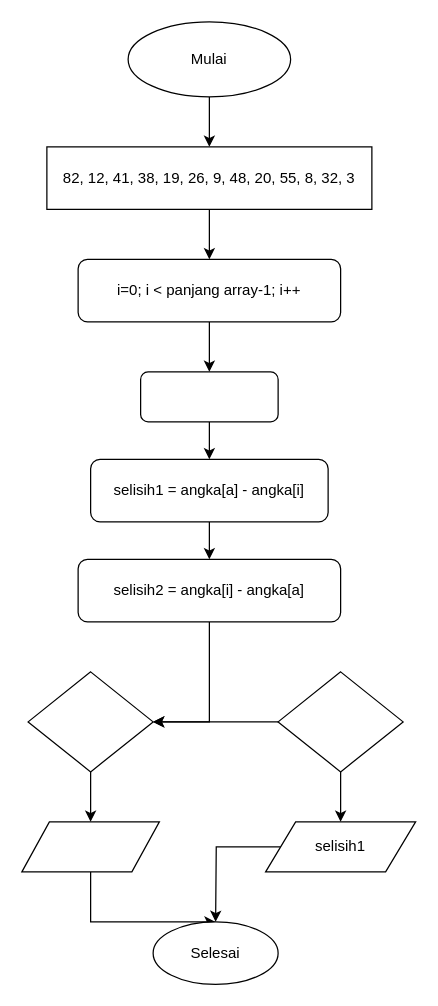
Some shapes in this 438 by 1006 pixel diagram are drawn without their labels. Each missing label, with the box of its shape:
a = i+1: (139, 371, 278, 422)
angka[a] > angka[i]: (27, 671, 153, 772)
angka[i] > angka[a]: (277, 671, 403, 772)
selisih2: (21, 821, 159, 872)
